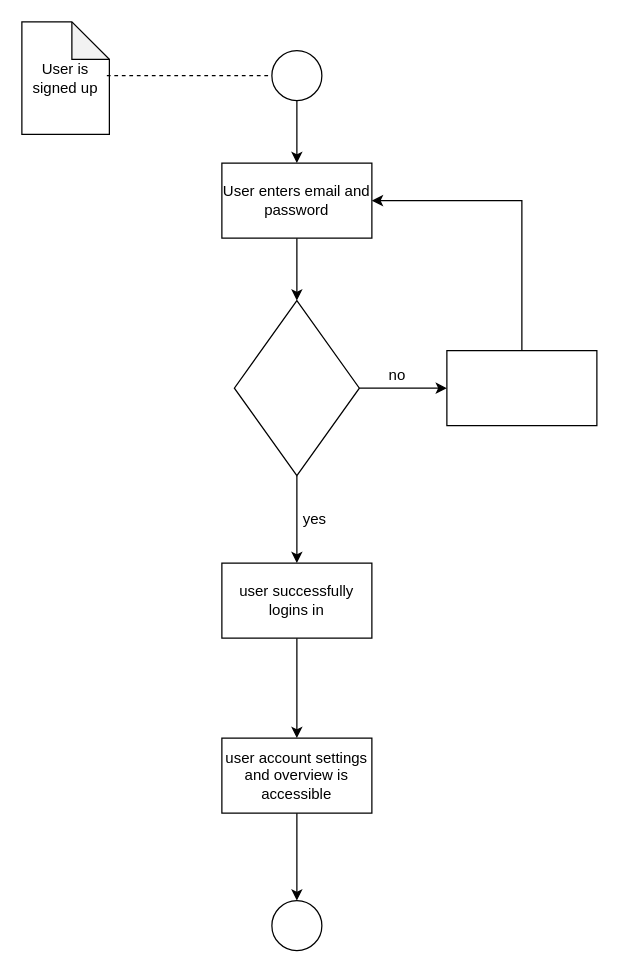
The diagram is 619 pixels wide and 973 high, and some of its shapes have lost their labels. Here are the shapes that lost their labels. From the top down, the centre of each, then its label:
At [296,387]: "email and password are correct and coherlated?".
At [521,387]: "invalid email or password".
